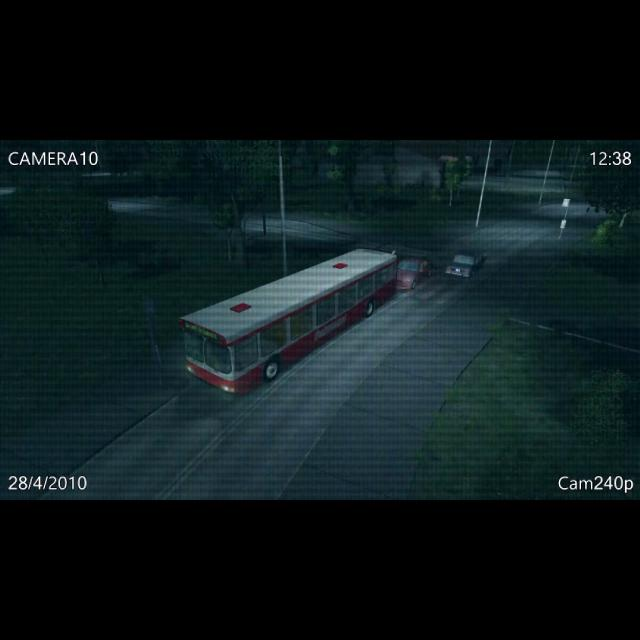accident: (338, 249, 434, 313)
